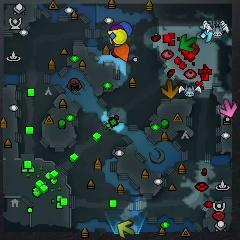p1: (119, 21, 133, 37)
p3: (109, 24, 124, 32)
p4: (107, 30, 128, 45)
p5: (114, 43, 130, 63)
x1: (221, 99, 237, 119)
x2: (118, 220, 135, 237)
x3: (200, 25, 213, 42)
x4: (179, 35, 197, 52)
x5: (160, 81, 180, 99)
